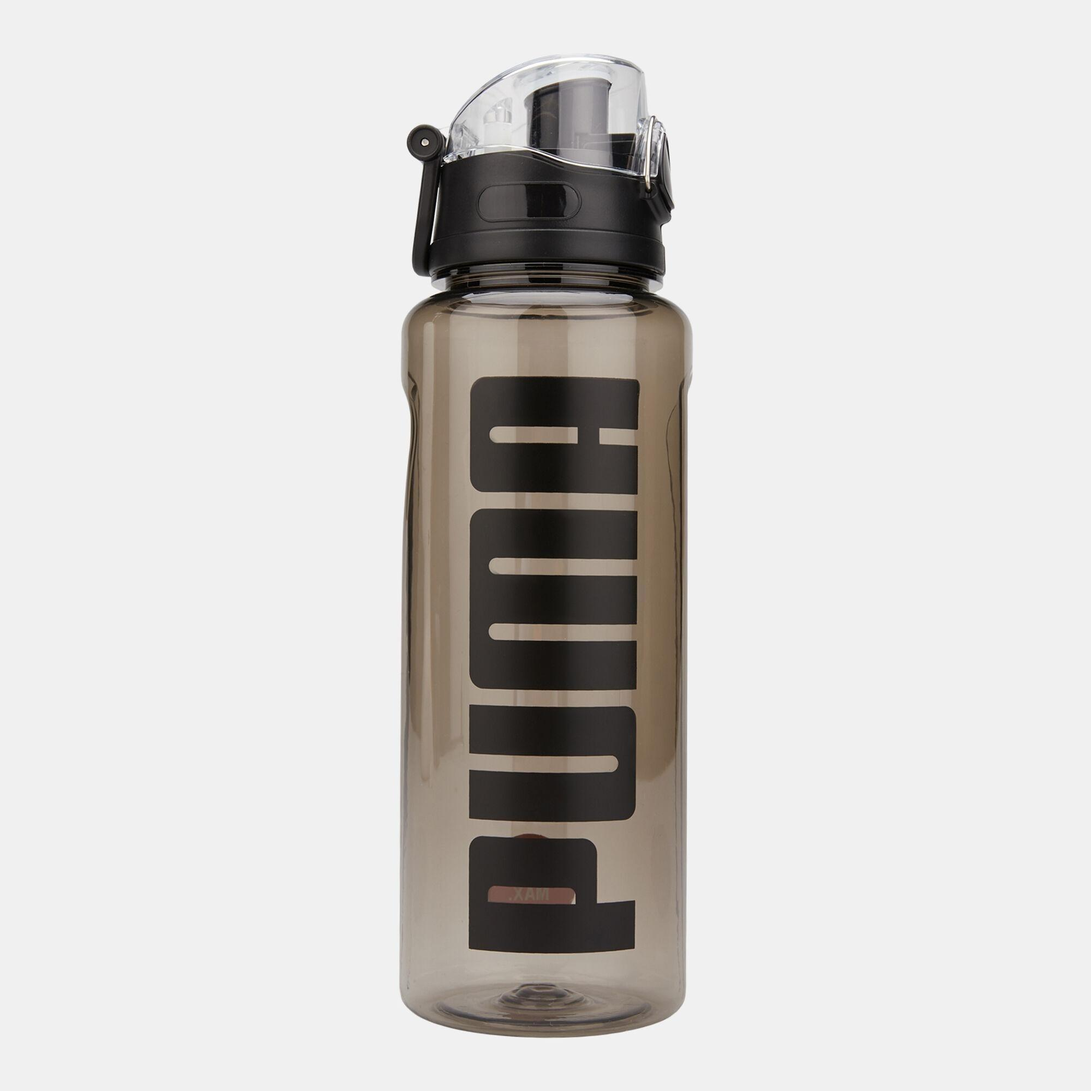gym bottle: (393, 50, 700, 1041)
